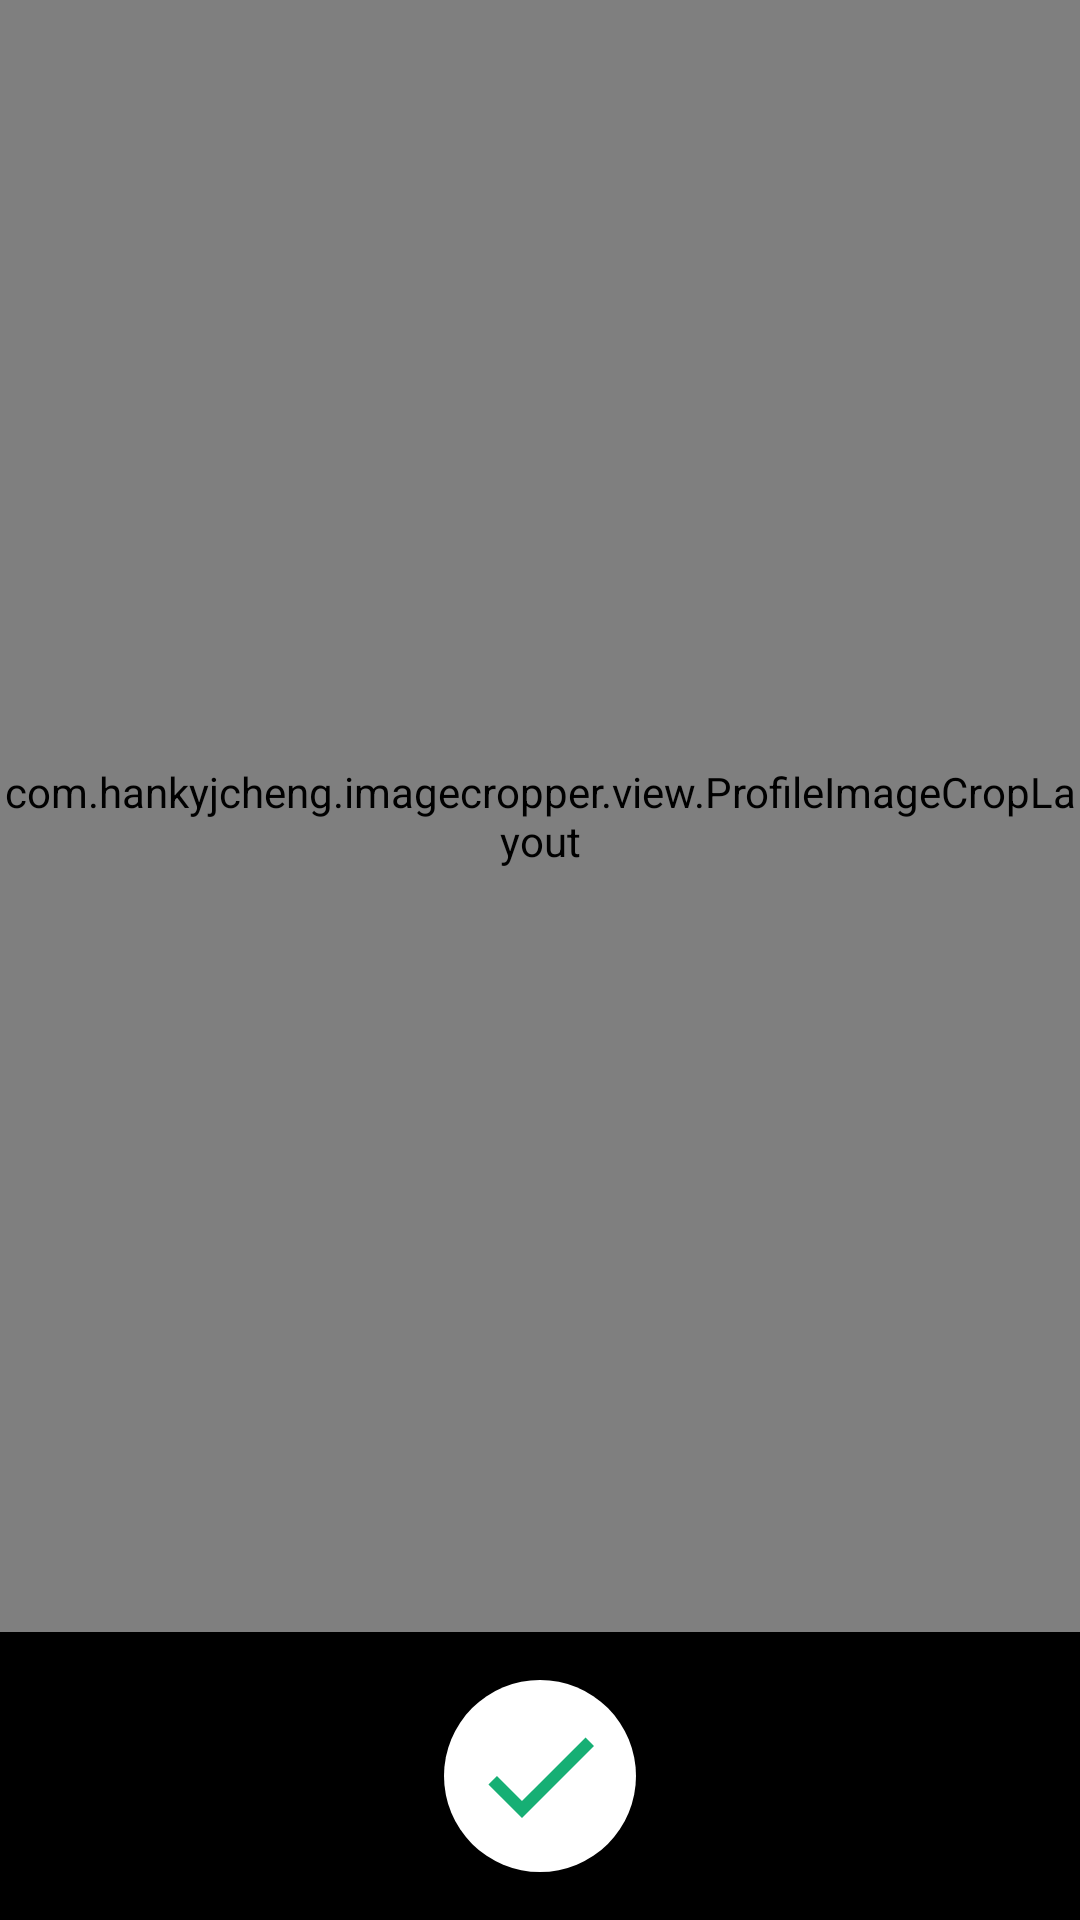

Icons on this 1080px×1920px Android screen, each with the point to tap as point (x, y):
Confirm Crop: point (540, 1776)
